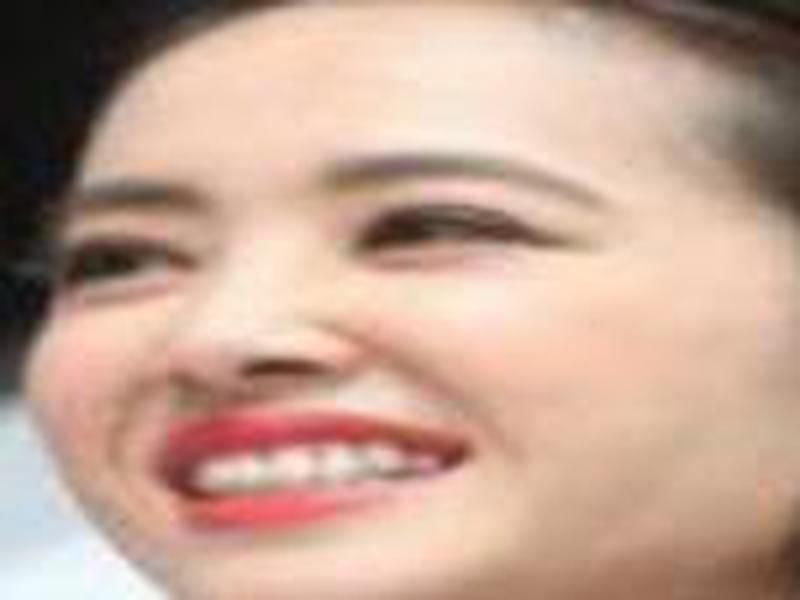without_mask: (21, 42, 731, 587)
